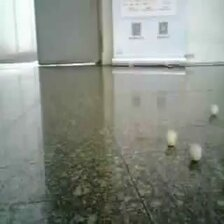w: (187, 143, 203, 161), (165, 131, 179, 145), (210, 104, 219, 115)
